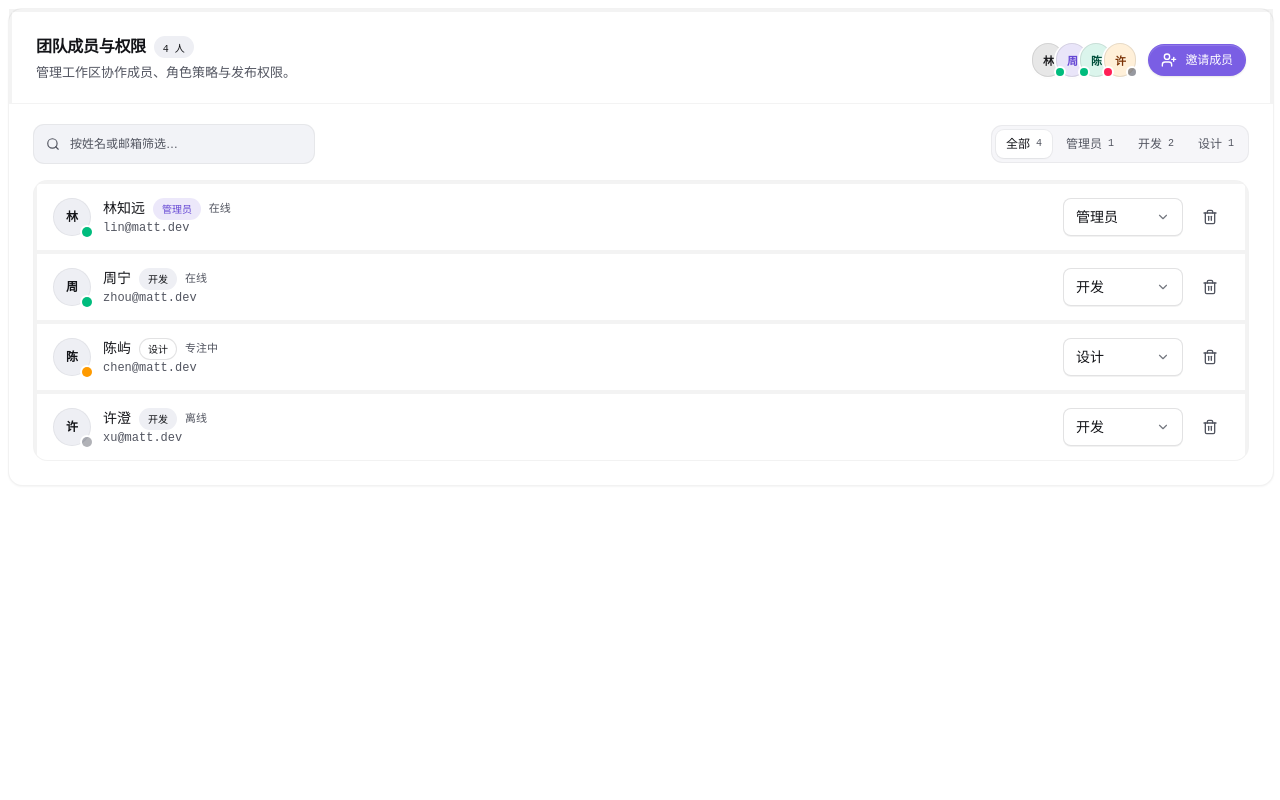
Scenario: TeamMembersBlock › 支持按关键字筛选成员、邀请新成员并触发回调
Check: the text "林知远" is shown, box [103,199,145,219]
Type "不存在" into the search field named "搜索团队成员".
click(185, 144); type("不存在")  # box [68,135,302,153]
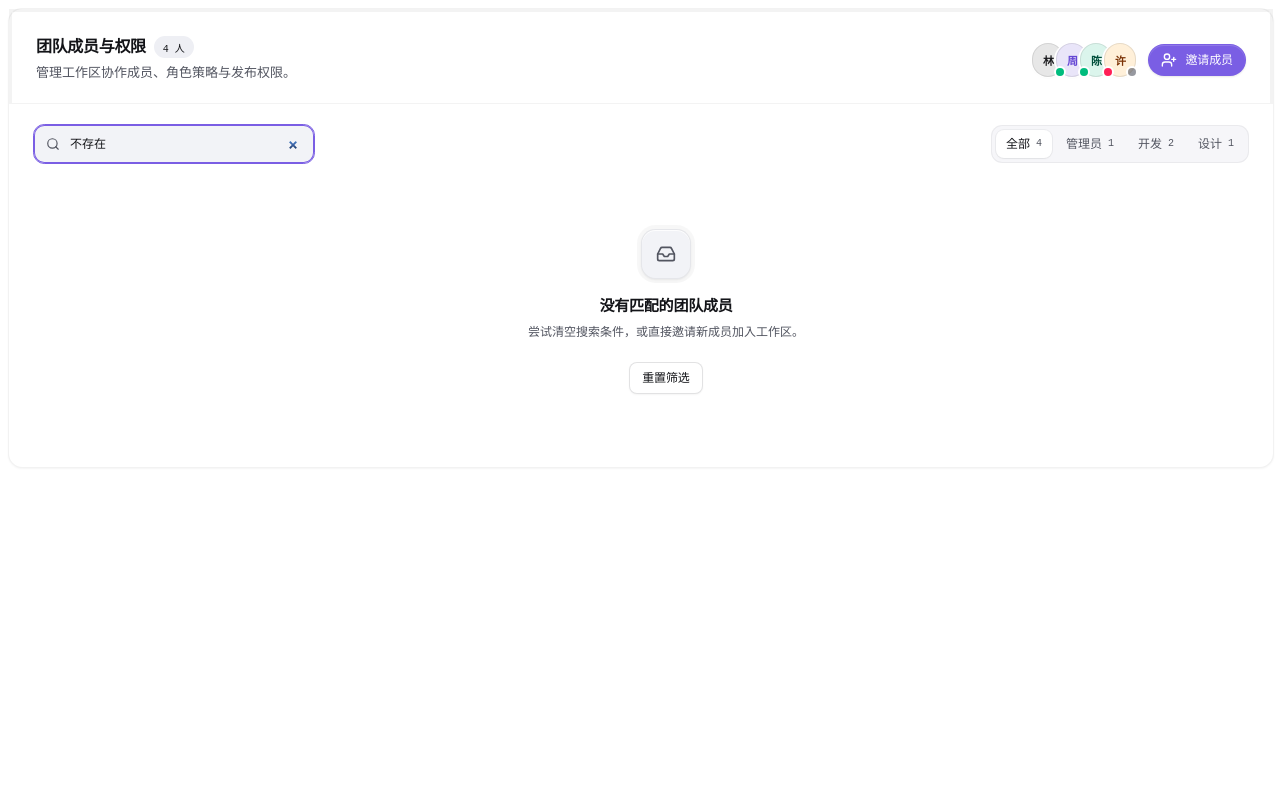
Check: the text "没有匹配的团队成员" is shown, box [600,295,732,316]
Clear the search field named "搜索团队成员" at (185, 144), box [68,135,302,153]
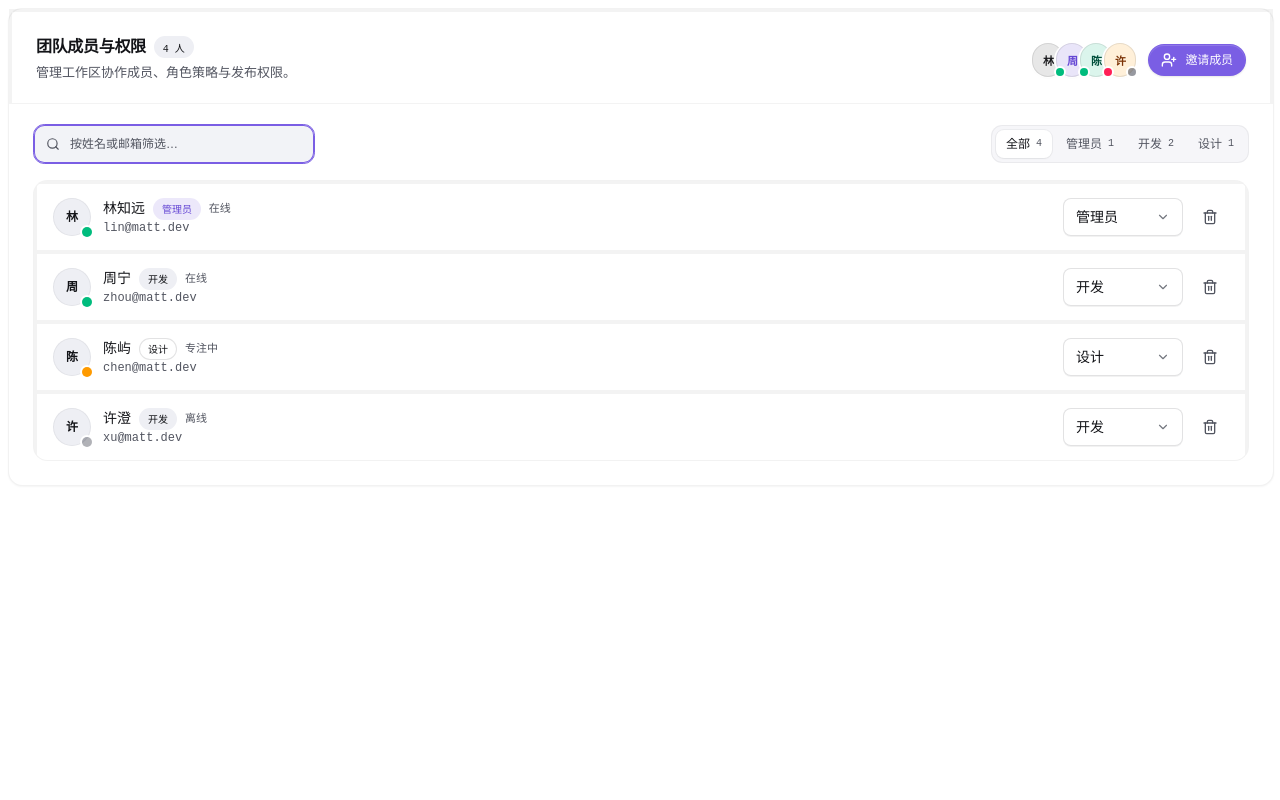
Click the button "邀请成员".
click(1197, 60)  # box [1148,44,1246,76]
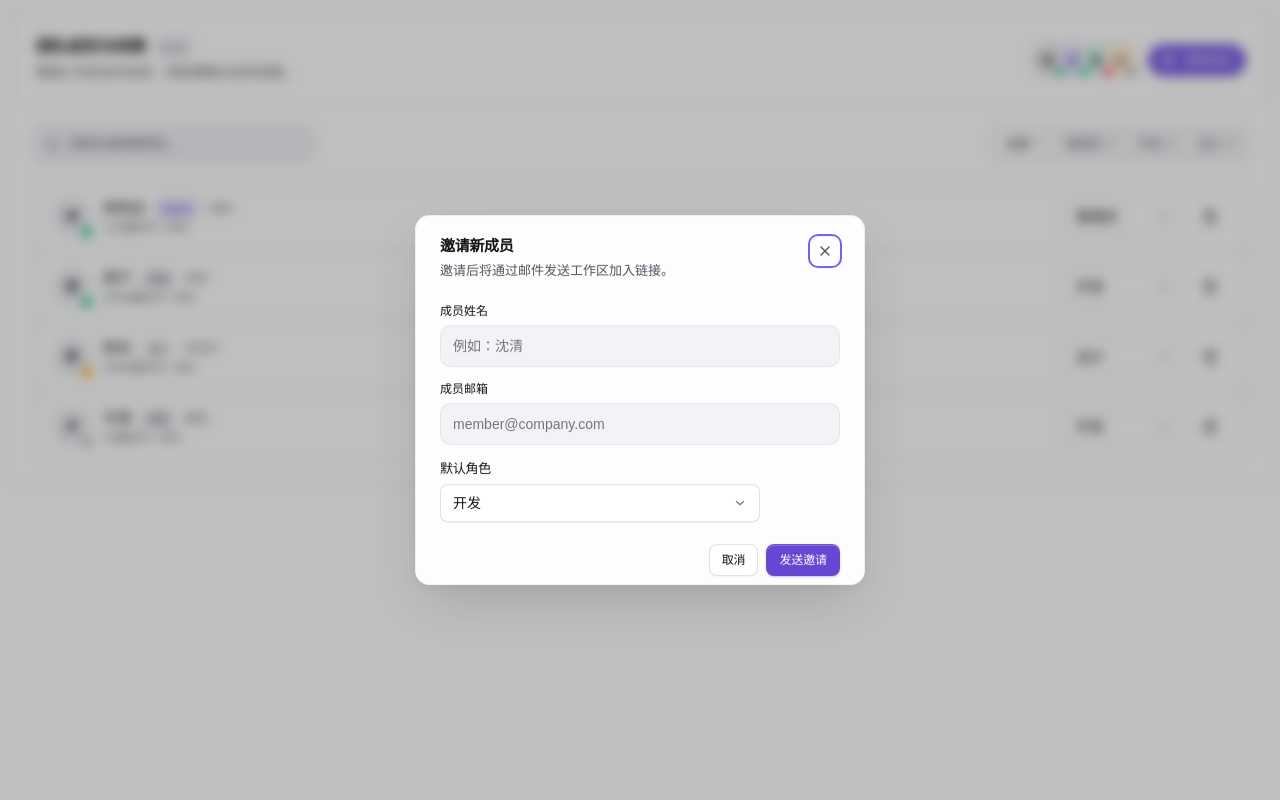
Type "沈清" into the field labelled "成员姓名".
click(640, 346); type("沈清")  # box [440,325,840,367]
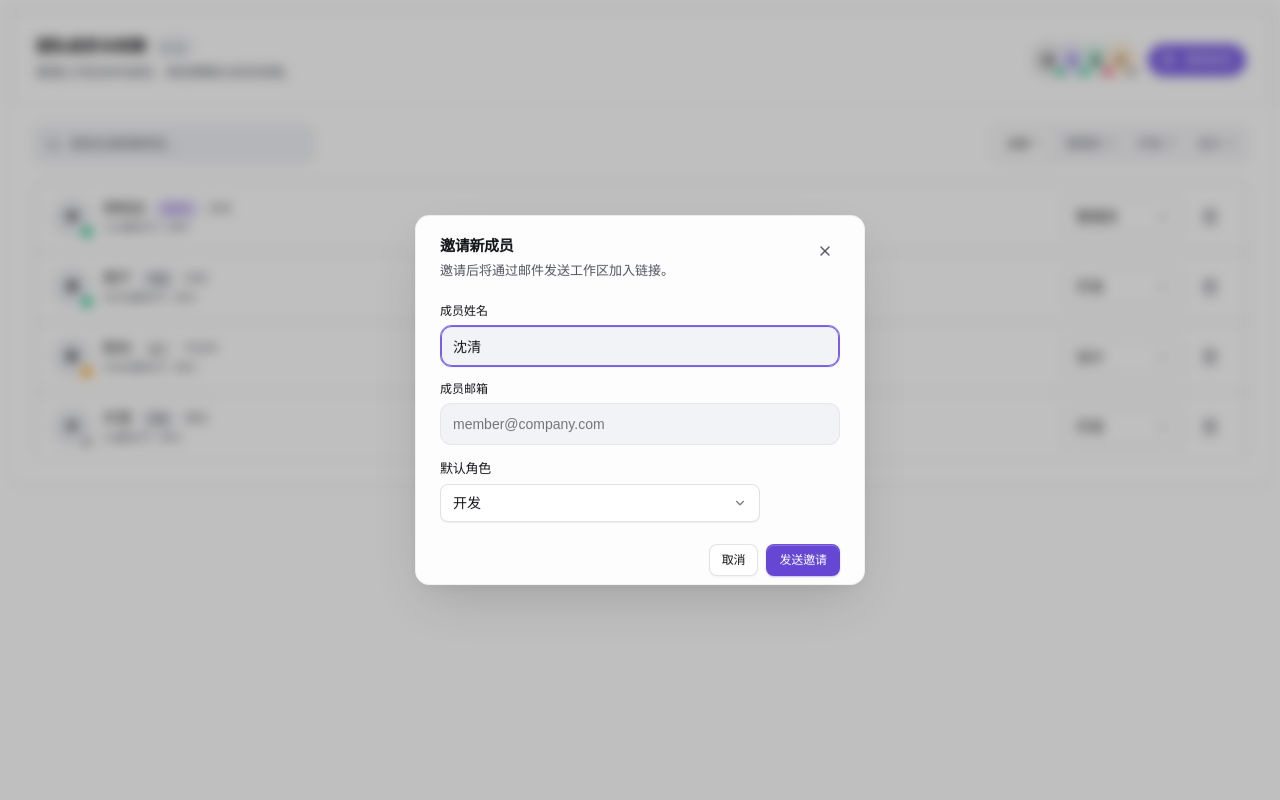
Type "shen@matt.dev" into the field labelled "成员邮箱".
click(640, 424); type("shen@matt.dev")  # box [440,403,840,445]
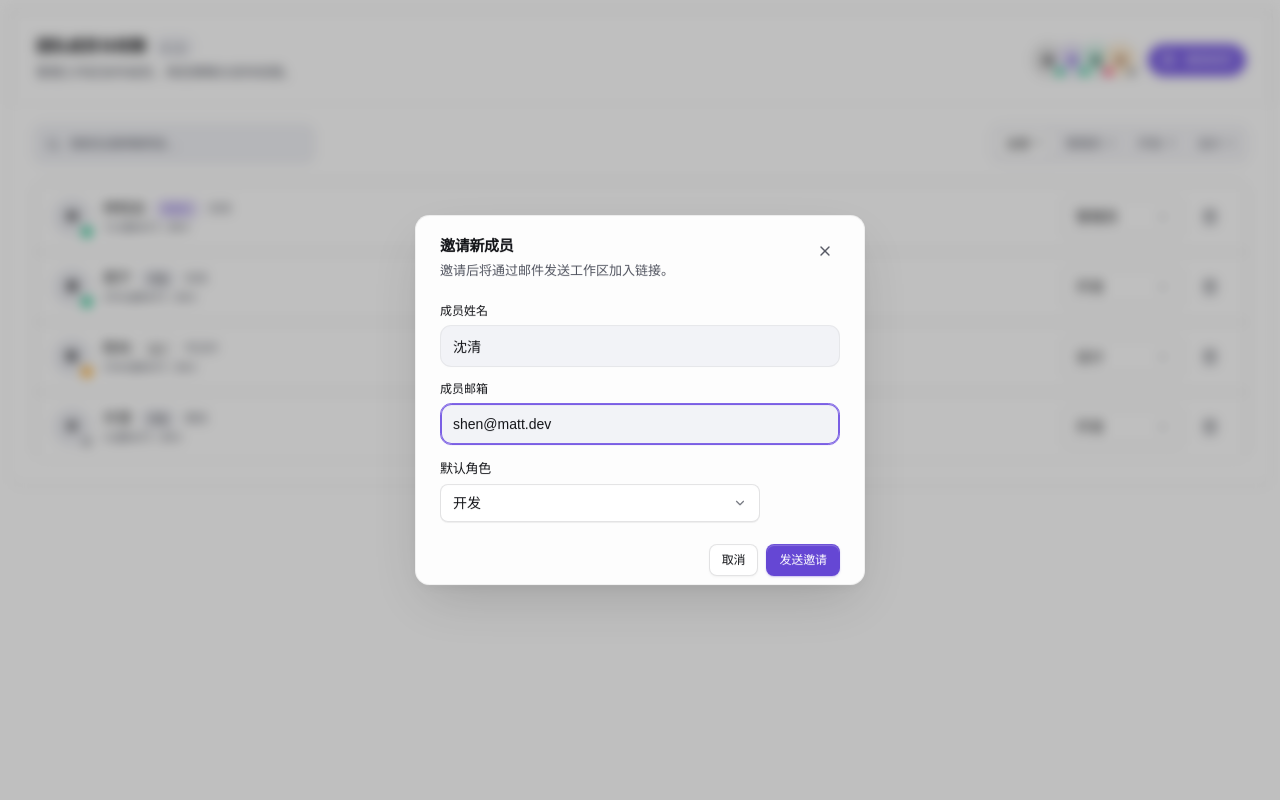
Click the button "发送邀请".
click(803, 560)  # box [766,544,840,576]
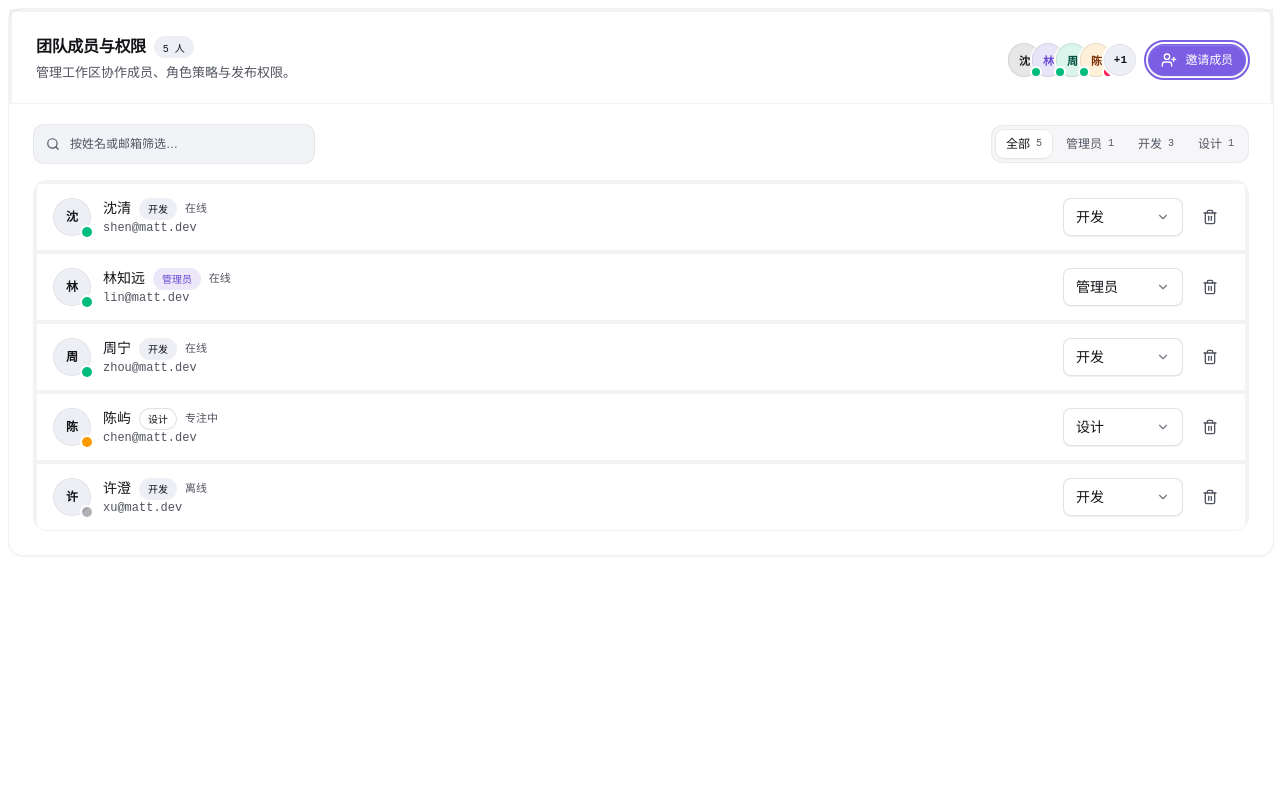
Check: the text "沈清" is shown, box [103,199,131,219]
